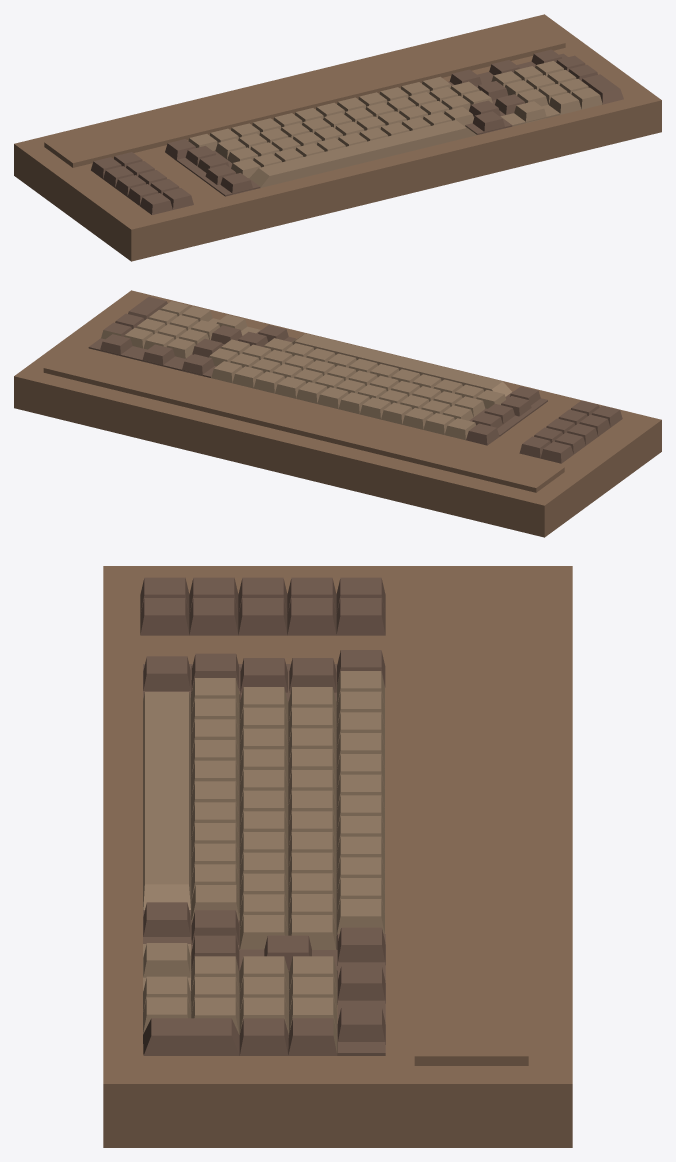
Rendered from klawiatura1.glb.
The picture shows the model from 3 angles, top to bottom: view 1: azimuth 30°, elevation 25°; view 2: azimuth 150°, elevation 25°; view 3: azimuth 270°, elevation 25°; orthographic projection. The views are drawn at different scales.
Parts seen in each view (by area): view 1: Cube.002; view 2: Cube.002; view 3: Cube.002.
Part boxes in pixels (left/top/right/bottom): Cube.002: left=14, top=14, right=661, bottom=261; Cube.002: left=14, top=290, right=661, bottom=537; Cube.002: left=103, top=566, right=572, bottom=1147.
Size of the model in its own units: 2.45 by 0.1841 by 0.9404.
